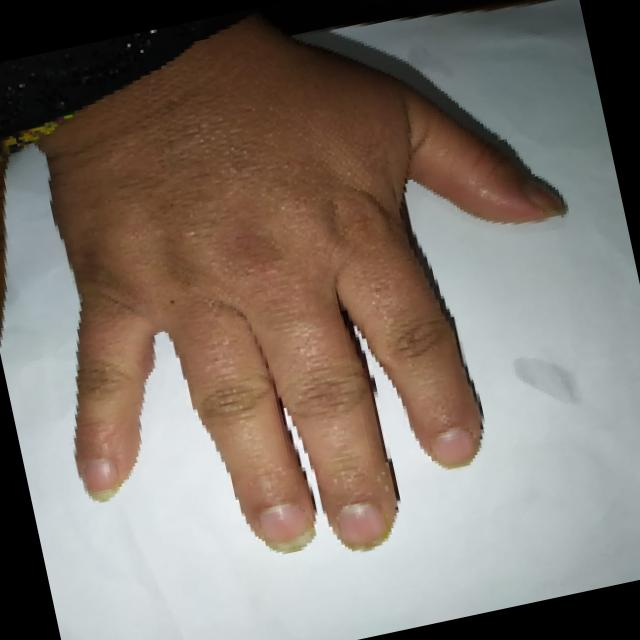Nail: (331, 500, 388, 549), (259, 502, 314, 551), (430, 427, 478, 466), (80, 456, 120, 501), (522, 177, 566, 216)
